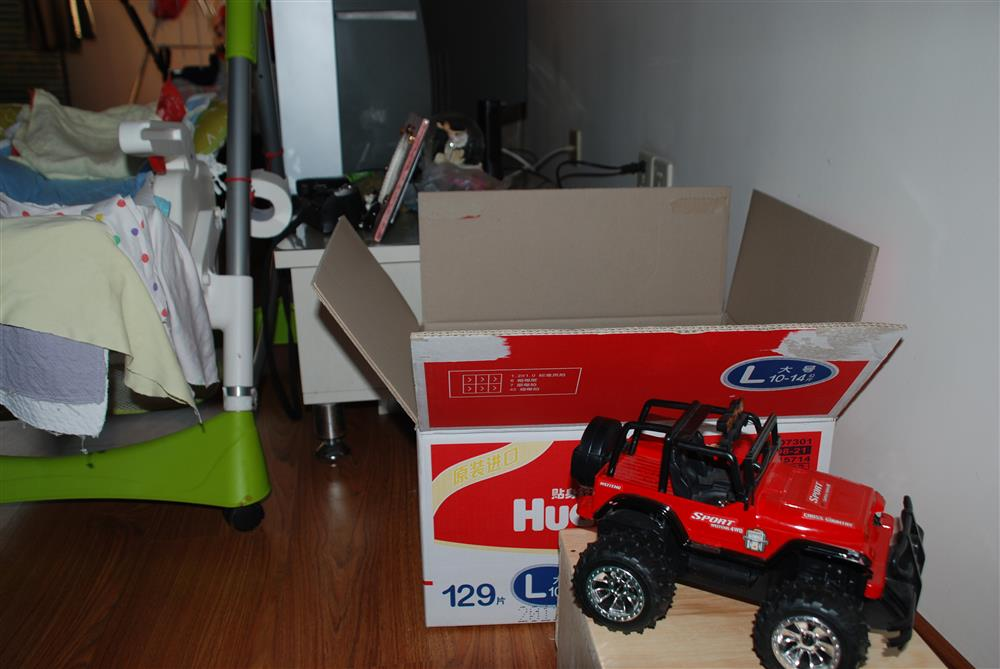toy_tractor: (564, 391, 925, 662)
